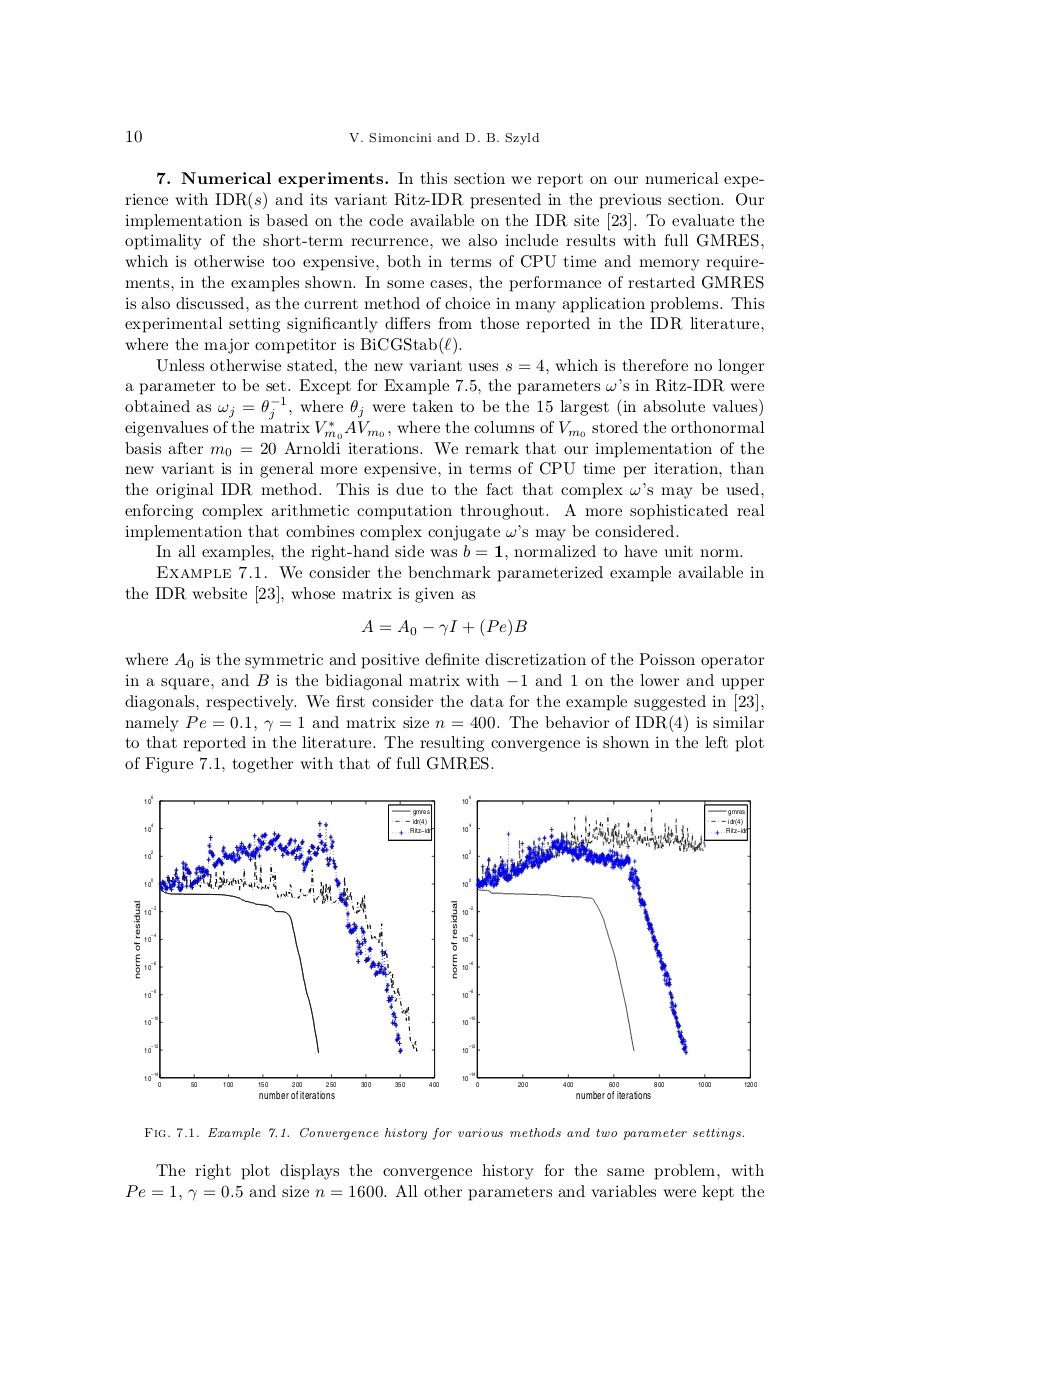figure: (451, 795, 756, 1099), (134, 795, 438, 1099)
formula: (361, 619, 526, 637)
